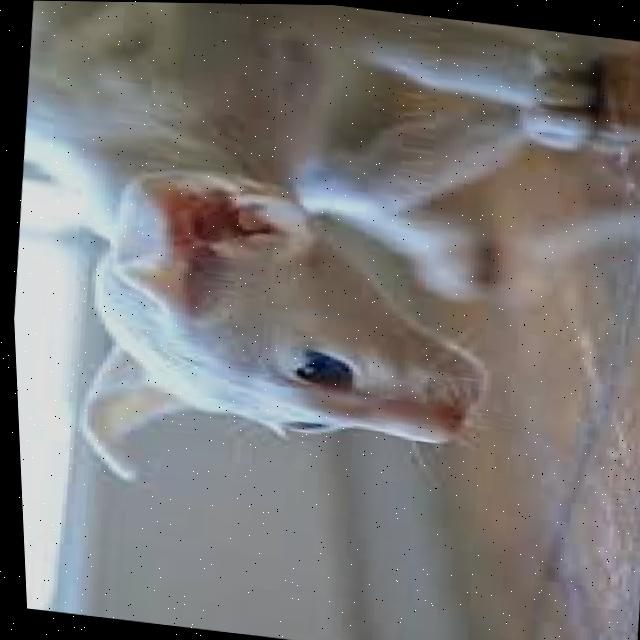Oriental: (0, 0, 624, 542)
